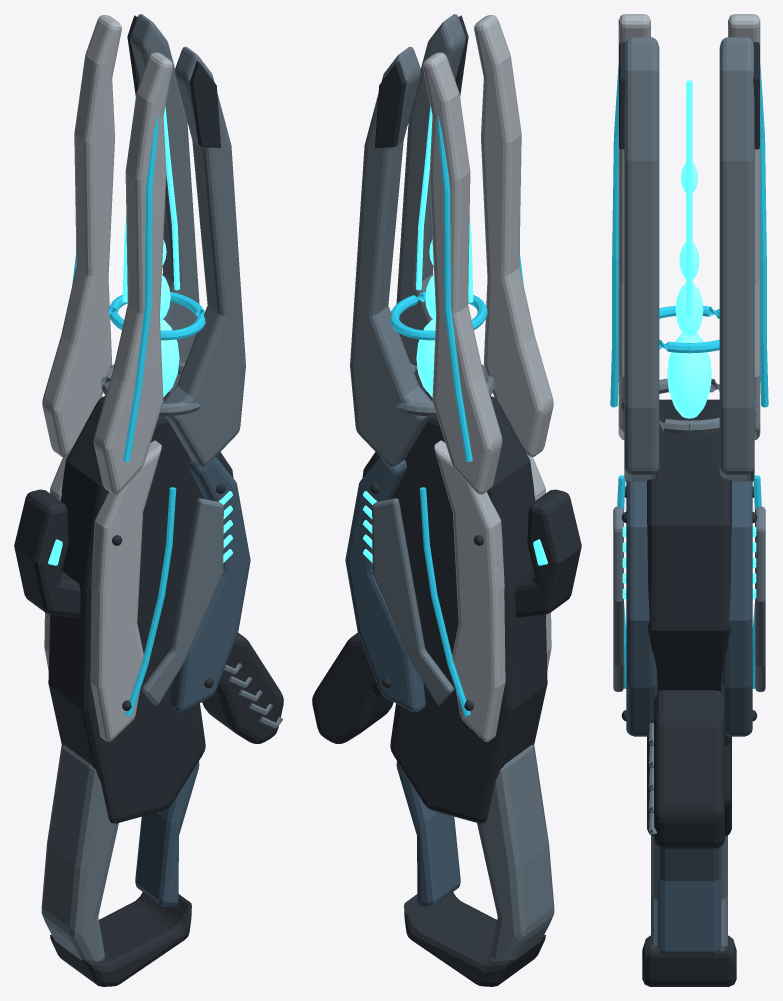
Rendered from memory-arc-rifle.glb.
3 views of the same model, side by side, from view 1: azimuth 30°, elevation 25°; view 2: azimuth 150°, elevation 25°; view 3: azimuth 270°, elevation 25° (orthographic). The views are drawn at different scales.
Parts seen in each view (by area): view 1: SW_MEMORY_ARC_RIFLE_MESH; view 2: SW_MEMORY_ARC_RIFLE_MESH; view 3: SW_MEMORY_ARC_RIFLE_MESH.
Boxes of the visible parts, <box> form: SW_MEMORY_ARC_RIFLE_MESH: <box>14,14,283,986</box>; SW_MEMORY_ARC_RIFLE_MESH: <box>312,14,581,986</box>; SW_MEMORY_ARC_RIFLE_MESH: <box>610,14,768,986</box>.
Bounding box in the file's own units: 0.3379 × 1.21 × 0.1764.
